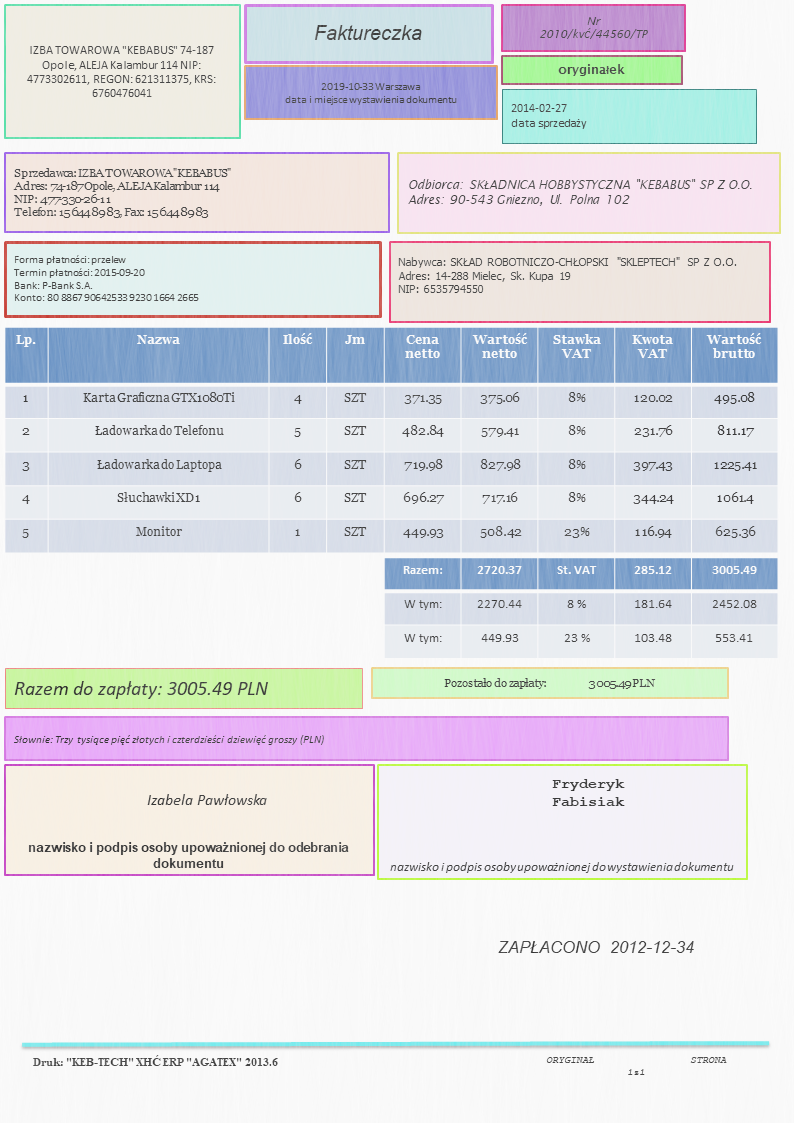Table: (3, 326, 779, 555), (382, 555, 780, 659)
TextBox: (396, 254, 739, 296), (11, 163, 233, 221), (24, 41, 218, 100), (404, 176, 755, 207), (26, 840, 350, 871), (11, 252, 199, 303), (387, 857, 736, 875), (12, 677, 271, 698), (282, 80, 460, 108), (12, 733, 327, 747), (545, 1053, 728, 1077), (29, 1054, 281, 1071), (495, 937, 698, 958), (537, 13, 651, 44), (441, 675, 657, 691), (549, 776, 629, 809), (509, 101, 588, 133), (313, 22, 423, 43), (145, 792, 269, 808), (555, 61, 627, 78)
